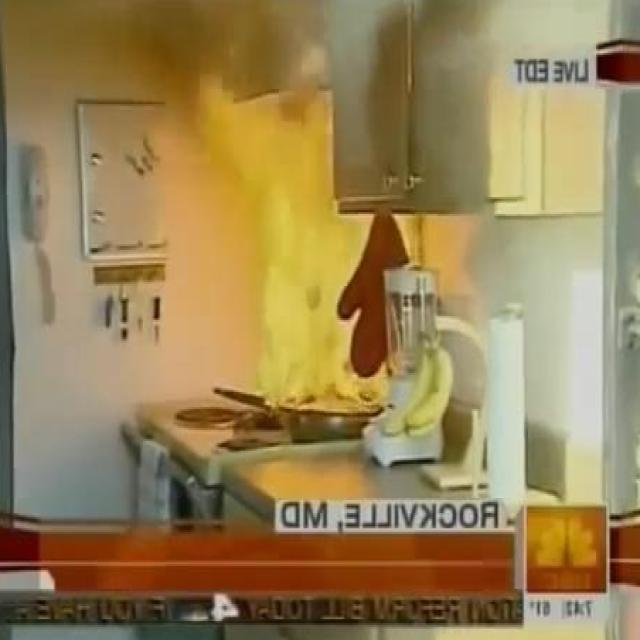fire: (317, 0, 423, 161)
smoke: (255, 71, 400, 414)
